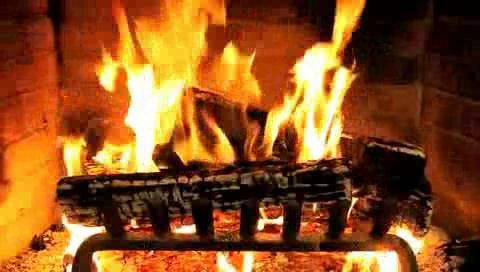fire: (92, 8, 368, 185)
